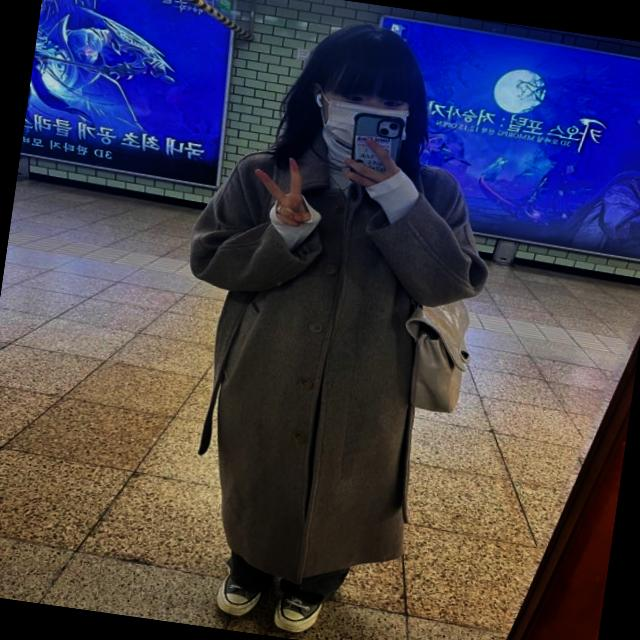coat: (144, 115, 502, 607)
